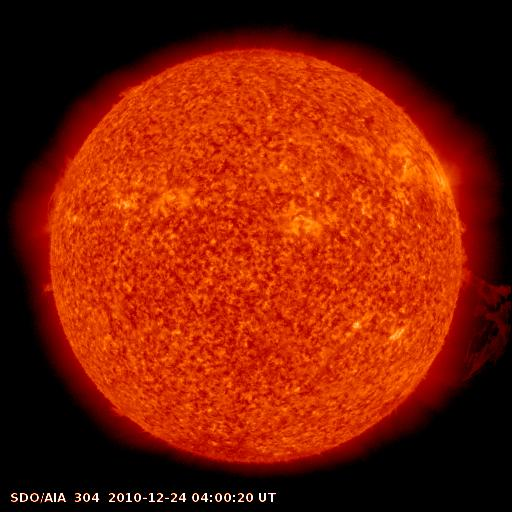prominence: (433, 253, 512, 393), (19, 148, 77, 234), (96, 68, 155, 108), (25, 270, 72, 309)
